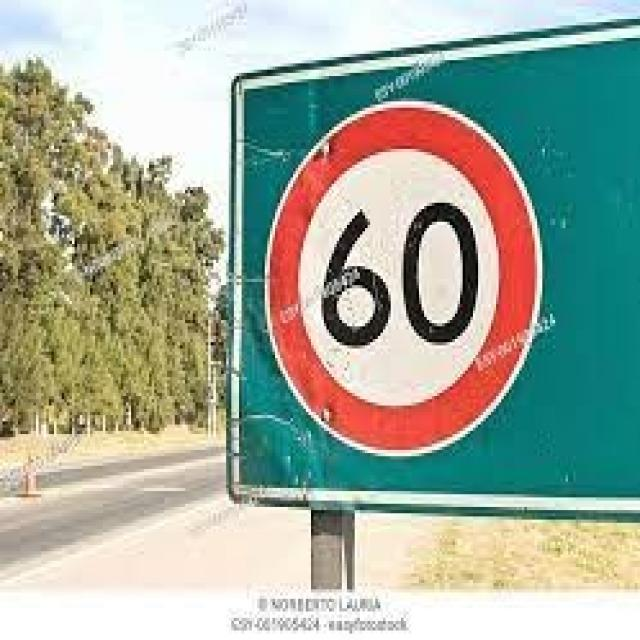speed_limit_60: (258, 100, 559, 472)
